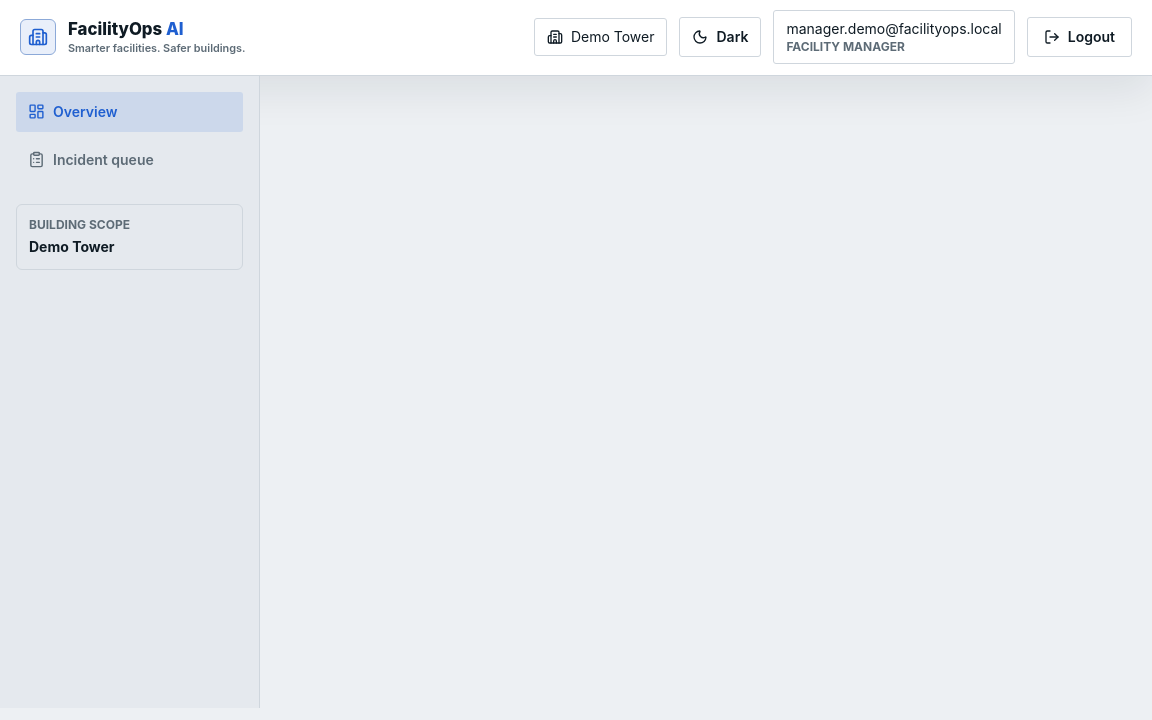
it: session authentication UI › persists the selected theme from the app chrome
The image size is (1152, 720).
Step 1. Click the button with aria-label "switch to dark theme" → (720, 37), box [680,17,761,57]
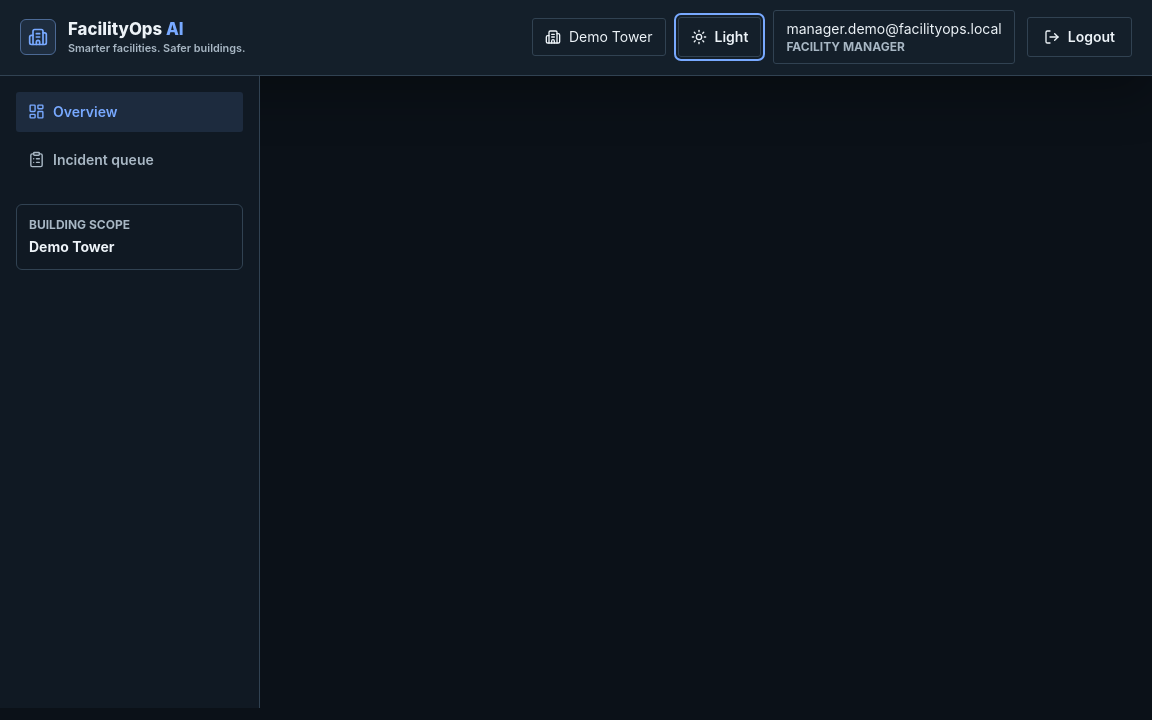
Expected: the button with aria-label "switch to light theme" is shown, [678,17,761,57]
